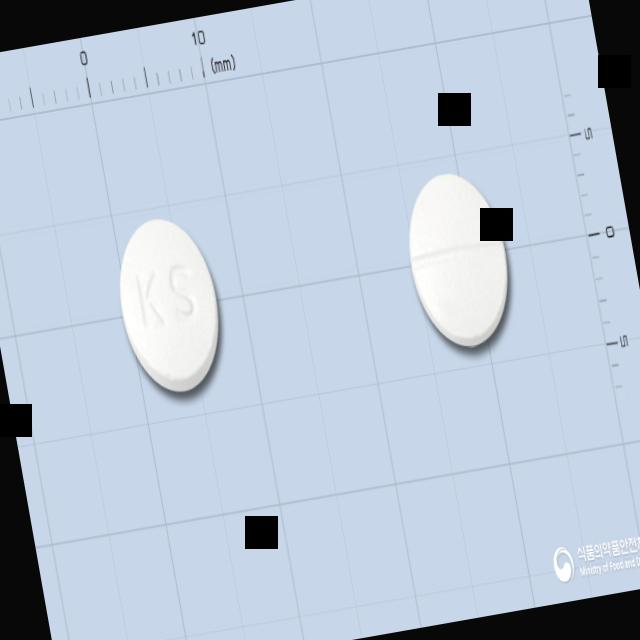Levofroxin: (108, 211, 233, 402)
